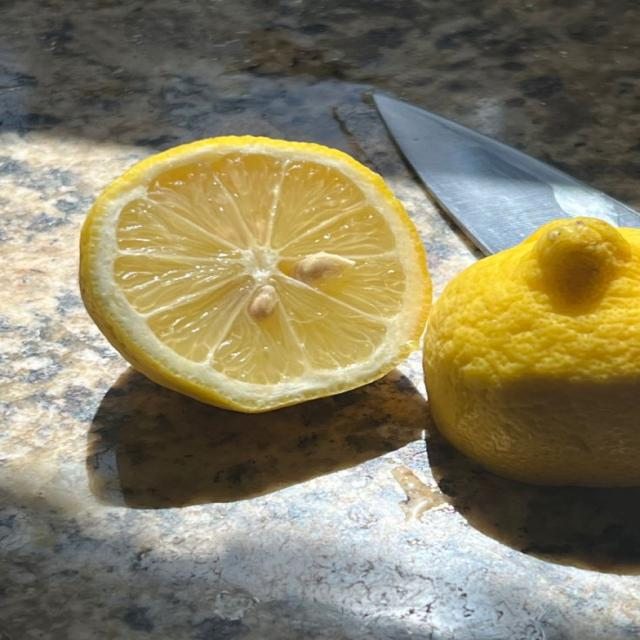lemon: (80, 137, 430, 411), (425, 218, 639, 486)
